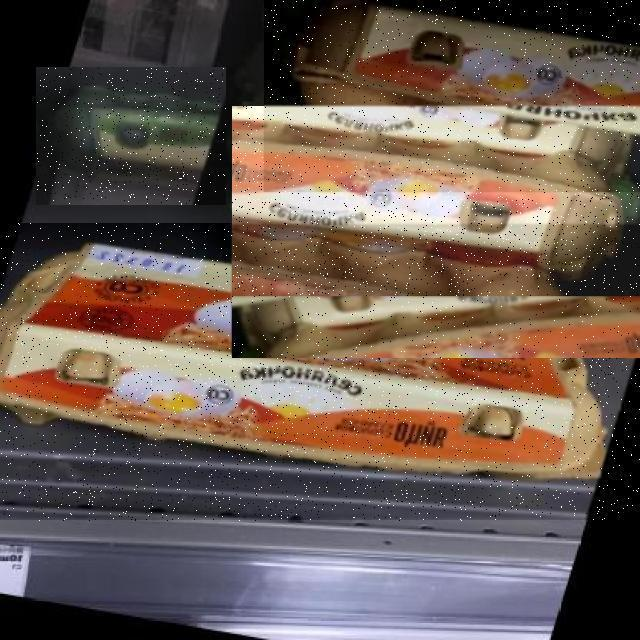Eggs: (0, 224, 640, 522), (232, 106, 640, 296), (264, 0, 640, 192), (232, 216, 640, 358), (36, 67, 226, 205)
